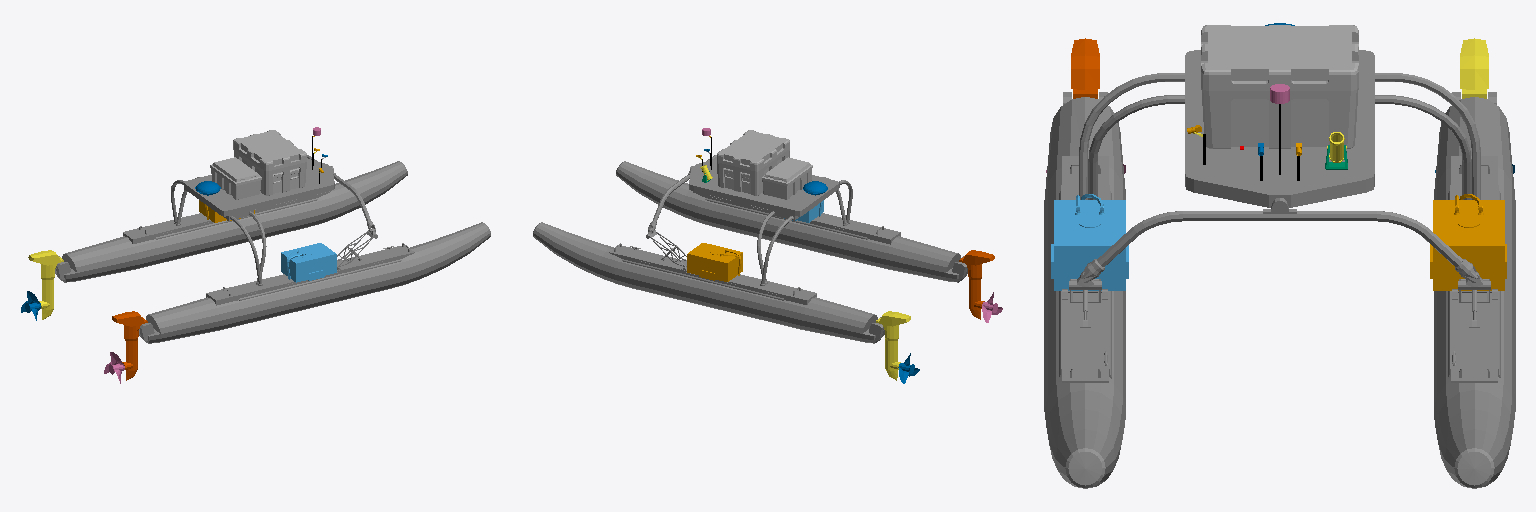
--- What the picture shows (computed from the rendered views, not written in the file) ---
The picture shows the robot from 3 angles, left to right: view 1: azimuth 30°, elevation 25°; view 2: azimuth 150°, elevation 25°; view 3: azimuth 270°, elevation 25°; orthographic projection.
Robot: WAM-V — 28 links, 27 joints (6 revolute, 2 continuous, 19 fixed); root link wamv/base_link; default pose: every joint at zero.
Visible links, largest first — view 1: wamv/base_link, wamv/cpu_cases_link, wamv/right_battery_link, wamv/right_engine_link, wamv/left_engine_link; view 2: wamv/base_link, wamv/cpu_cases_link, wamv/left_battery_link, wamv/left_engine_link, wamv/right_engine_link; view 3: wamv/base_link, wamv/cpu_cases_link, wamv/right_battery_link, wamv/left_battery_link, wamv/left_engine_link, wamv/right_engine_link.
Link boxes in pixels (left/top/right/bottom): wamv/base_link: left=55, top=155, right=490, bottom=343; wamv/cpu_cases_link: left=210, top=130, right=306, bottom=199; wamv/right_battery_link: left=281, top=243, right=336, bottom=282; wamv/right_engine_link: left=112, top=311, right=147, bottom=380; wamv/left_engine_link: left=28, top=250, right=63, bottom=319; wamv/base_link: left=533, top=155, right=967, bottom=343; wamv/cpu_cases_link: left=717, top=130, right=812, bottom=199; wamv/left_battery_link: left=687, top=243, right=742, bottom=281; wamv/left_engine_link: left=876, top=311, right=910, bottom=380; wamv/right_engine_link: left=959, top=250, right=994, bottom=319; wamv/base_link: left=1044, top=50, right=1515, bottom=488; wamv/cpu_cases_link: left=1201, top=25, right=1358, bottom=148; wamv/right_battery_link: left=1051, top=194, right=1128, bottom=290; wamv/left_battery_link: left=1430, top=194, right=1506, bottom=290; wamv/left_engine_link: left=1460, top=38, right=1488, bottom=98; wamv/right_engine_link: left=1071, top=38, right=1099, bottom=98.
Size in the robot's own frame: 5.37 by 2.49 by 2.24 metres.
19 mesh visuals loaded from 11 distinct referenced files (11 Collada DAE).

The robot description file, URDF, robot "WAM-V":
<?xml version="1.0" ?>
<!-- =================================================================================== -->
<!-- |    This document was autogenerated by xacro from [local-path]/vrx_colcon_ws/install/share/wamv_gazebo/urdf/wamv_gazebo.urdf.xacro | -->
<!-- |    EDITING THIS FILE BY HAND IS NOT RECOMMENDED                                 | -->
<!-- =================================================================================== -->
<!-- Basic WAM-V with gazebo plugins for dynamics -->
<robot name="WAM-V">
  <link name="wamv/left_battery_link">
    <visual>
      <origin rpy="0 0 0" xyz="0 -1.03 -.45"/>
      <geometry>
        <mesh filename="package://vrx_gazebo/models/battery/mesh/battery.dae"/>
      </geometry>
    </visual>
    <collision name="left_battery_collision">
      <origin rpy="0 0 0" xyz="0 0 .15"/>
      <geometry>
        <box size=".6 .4 .31"/>
      </geometry>
    </collision>
    <inertial>
      <origin rpy=" 0 0 0" xyz="0 0 .15"/>
      <mass value="23.5"/>
      <inertia ixx="0.5015291666666667" ixy="0" ixz="0" iyy="0.8931958333333333" iyz="0" izz="1.0183333333333333"/>
    </inertial>
  </link>
  <joint name="wamv/left_chasis_battery_joint" type="fixed">
    <origin rpy="0 0 0" xyz="0 1 0.45"/>
    <parent link="wamv/base_link"/>
    <child link="wamv/left_battery_link"/>
  </joint>
  <gazebo reference="wamv/left_battery_link">
    <visual>
      <material>
        <diffuse>1.0 1.0 1.0</diffuse>
        <specular>1.0 1.0 1.0</specular>
        <pbr>
          <metal>
            <albedo_map>model://vrx_gazebo/models/battery/mesh/battery_Albedo.png</albedo_map>
            <normal_map>model://vrx_gazebo/models/battery/mesh/battery_Normal.png</normal_map>
            <roughness_map>model://vrx_gazebo/models/battery/mesh/battery_Roughness.png</roughness_map>
            <metalness_map>model://vrx_gazebo/models/battery/mesh/battery_Metalness.png</metalness_map>
          </metal>
        </pbr>
      </material>
    </visual>
  </gazebo>
  <link name="wamv/right_battery_link">
    <visual>
      <origin rpy="0 0 0" xyz="0 -1.03 -.45"/>
      <geometry>
        <mesh filename="package://vrx_gazebo/models/battery/mesh/battery.dae"/>
      </geometry>
    </visual>
    <collision name="right_battery_collision">
      <origin rpy="0 0 0" xyz="0 0 .15"/>
      <geometry>
        <box size=".6 .4 .31"/>
      </geometry>
    </collision>
    <inertial>
      <origin rpy=" 0 0 0" xyz="0 0 .15"/>
      <mass value="23.5"/>
      <inertia ixx="0.5015291666666667" ixy="0" ixz="0" iyy="0.8931958333333333" iyz="0" izz="1.0183333333333333"/>
    </inertial>
  </link>
  <joint name="wamv/right_chasis_battery_joint" type="fixed">
    <origin rpy="0 0 0" xyz="0 -1 0.45"/>
    <parent link="wamv/base_link"/>
    <child link="wamv/right_battery_link"/>
  </joint>
  <gazebo reference="wamv/right_battery_link">
    <visual>
      <material>
        <diffuse>1.0 1.0 1.0</diffuse>
        <specular>1.0 1.0 1.0</specular>
        <pbr>
          <metal>
            <albedo_map>model://vrx_gazebo/models/battery/mesh/battery_Albedo.png</albedo_map>
            <normal_map>model://vrx_gazebo/models/battery/mesh/battery_Normal.png</normal_map>
            <roughness_map>model://vrx_gazebo/models/battery/mesh/battery_Roughness.png</roughness_map>
            <metalness_map>model://vrx_gazebo/models/battery/mesh/battery_Metalness.png</metalness_map>
          </metal>
        </pbr>
      </material>
    </visual>
  </gazebo>
  <!-- Basic model of the 16' WAM-V USV -->
  <link name="wamv/base_link">
    <visual>
      <geometry>
        <mesh filename="package://wamv_description/models/WAM-V-Base/mesh/WAM-V-Base.dae"/>
      </geometry>
    </visual>
    <!-- Main float -->
    <collision name="left_float">
      <origin rpy="0 1.57 0" xyz="-0.4 1.03 0.2"/>
      <geometry>
        <cylinder length="4" radius="0.2"/>
      </geometry>
    </collision>
    <collision name="left_mid_float">
      <origin rpy="0 1.38 0" xyz="1.85 1.03 0.3"/>
      <geometry>
        <cylinder length="0.5" radius="0.17"/>
      </geometry>
    </collision>
    <collision name="left_front_float">
      <origin rpy="0 1.3 0" xyz="2.3 1.03 0.4"/>
      <geometry>
        <cylinder length="0.45" radius="0.12"/>
      </geometry>
    </collision>
    <!-- Front beam -->
    <collision name="front_left_beam_lower">
      <origin rpy="0.78 0 0" xyz="0.9 0.85 1"/>
      <geometry>
        <cylinder length="0.5" radius="0.04"/>
      </geometry>
    </collision>
    <collision name="front_left_beam_upper">
      <origin rpy="1.35 0 0" xyz="0.9 0.6 1.18"/>
      <geometry>
        <cylinder length="0.2" radius="0.04"/>
      </geometry>
    </collision>
    <!-- Mid beam -->
    <collision name="mid_left_beam_lower">
      <origin rpy="0.1 0.25 0" xyz="-0.65 0.99 0.7"/>
      <geometry>
        <cylinder length="0.45" radius="0.03"/>
      </geometry>
    </collision>
    <collision name="mid_left_beam_medium">
      <origin rpy="0.75 0.25 0" xyz="-0.57 0.87 1.05"/>
      <geometry>
        <cylinder length="0.32" radius="0.03"/>
      </geometry>
    </collision>
    <collision name="mid_left_beam_upper">
      <origin rpy="1.35 0.25 0" xyz="-0.55 0.65 1.17"/>
      <geometry>
        <cylinder length="0.3" radius="0.03"/>
      </geometry>
    </collision>
    <!-- Rear beam -->
    <collision name="rear_left_beam_lower">
      <origin rpy="0 -0.15 0" xyz="-0.74 1.03 0.7"/>
      <geometry>
        <cylinder length="0.45" radius="0.03"/>
      </geometry>
    </collision>
    <collision name="rear_left_beam_medium">
      <origin rpy="0.75 -0.15 0" xyz="-0.79 0.91 1.05"/>
      <geometry>
        <cylinder length="0.32" radius="0.03"/>
      </geometry>
    </collision>
    <collision name="rear_left_beam_upper">
      <origin rpy="1.45 -0.15 0" xyz="-0.81 0.67 1.18"/>
      <geometry>
        <cylinder length="0.3" radius="0.03"/>
      </geometry>
    </collision>
    <!-- Joint -->
    <collision name="left_joint">
      <origin rpy="0 -0.6 0" xyz="0.58 1.03 0.6"/>
      <geometry>
        <box size="0.65 0.2 0.1"/>
      </geometry>
    </collision>
    <!-- Main float -->
    <collision name="right_float">
      <origin rpy="0 1.57 0" xyz="-0.4 -1.03 0.2"/>
      <geometry>
        <cylinder length="4" radius="0.2"/>
      </geometry>
    </collision>
    <collision name="right_mid_float">
      <origin rpy="0 1.38 0" xyz="1.85 -1.03 0.3"/>
      <geometry>
        <cylinder length="0.5" radius="0.17"/>
      </geometry>
    </collision>
    <collision name="right_front_float">
      <origin rpy="0 1.3 0" xyz="2.3 -1.03 0.4"/>
      <geometry>
        <cylinder length="0.45" radius="0.12"/>
      </geometry>
    </collision>
    <!-- Front beam -->
    <collision name="front_right_beam_lower">
      <origin rpy="-0.78 0 0" xyz="0.9 -0.85 1"/>
      <geometry>
        <cylinder length="0.5" radius="0.04"/>
      </geometry>
    </collision>
    <collision name="front_right_beam_upper">
      <origin rpy="-1.35 0 0" xyz="0.9 -0.6 1.18"/>
      <geometry>
        <cylinder length="0.2" radius="0.04"/>
      </geometry>
    </collision>
    <!-- Mid beam -->
    <collision name="mid_right_beam_lower">
      <origin rpy="-0.1 0.25 0" xyz="-0.65 -0.99 0.7"/>
      <geometry>
        <cylinder length="0.45" radius="0.03"/>
      </geometry>
    </collision>
    <collision name="mid_right_beam_medium">
      <origin rpy="-0.75 0.25 0" xyz="-0.57 -0.87 1.05"/>
      <geometry>
        <cylinder length="0.32" radius="0.03"/>
      </geometry>
    </collision>
    <collision name="mid_right_beam_upper">
      <origin rpy="-1.35 0.25 0" xyz="-0.55 -0.65 1.17"/>
      <geometry>
        <cylinder length="0.3" radius="0.03"/>
      </geometry>
    </collision>
    <!-- Rear beam -->
    <collision name="rear_right_beam_lower">
      <origin rpy="0 -0.15 0" xyz="-0.74 -1.03 0.7"/>
      <geometry>
        <cylinder length="0.45" radius="0.03"/>
      </geometry>
    </collision>
    <collision name="rear_right_beam_medium">
      <origin rpy="-0.75 -0.15 0" xyz="-0.79 -0.91 1.05"/>
      <geometry>
        <cylinder length="0.32" radius="0.03"/>
      </geometry>
    </collision>
    <collision name="rear_right_beam_upper">
      <origin rpy="-1.45 -0.15 0" xyz="-0.81 -0.67 1.18"/>
      <geometry>
        <cylinder length="0.3" radius="0.03"/>
      </geometry>
    </collision>
    <!-- Joint -->
    <collision name="right_joint">
      <origin rpy="0 -0.6 0" xyz="0.58 -1.03 0.6"/>
      <geometry>
        <box size="0.65 0.2 0.1"/>
      </geometry>
    </collision>
    <!-- Top base -->
    <collision name="top_base">
      <origin rpy="0 0 0" xyz="0 -0 1.25"/>
      <geometry>
        <box size="1.85 1 0.1"/>
      </geometry>
    </collision>
    <inertial>
      <!-- From WAM-V spec sheet -->
      <mass value="180.0"/>
      <inertia ixx="120.0" ixy="0.0" ixz="0.0" iyy="393" iyz="0.0" izz="446.0"/>
    </inertial>
  </link>
  <gazebo>
    <enable_wind>true</enable_wind>
  </gazebo>
  <gazebo reference="wamv/base_link">
    <visual>
      <material>
        <diffuse>1.0 1.0 1.0</diffuse>
        <specular>1.0 1.0 1.0</specular>
        <pbr>
          <metal>
            <albedo_map>model://wamv_description/models/WAM-V-Base/mesh/WAM-V_Albedo.png</albedo_map>
            <normal_map>model://wamv_description/models/WAM-V-Base/mesh/WAM-V_Normal.png</normal_map>
            <roughness_map>model://wamv_description/models/WAM-V-Base/mesh/WAM-V_Roughness.png</roughness_map>
            <metalness_map>model://wamv_description/models/WAM-V-Base/mesh/WAM-V_Metalness.png</metalness_map>
          </metal>
        </pbr>
      </material>
    </visual>
    <sensor name="contact_sensor" type="contact">
      <contact>
        <!-- collisions are renamed during urdf -> sdf fixed joint lumping -->
        <collision>wamv/base_link_fixed_joint_lump__top_base_collision_24</collision>
        <collision>wamv/base_link_fixed_joint_lump__left_float_collision</collision>
        <collision>wamv/base_link_fixed_joint_lump__left_mid_float_collision_1</collision>
        <collision>wamv/base_link_fixed_joint_lump__left_front_float_collision_2</collision>
        <collision>wamv/base_link_fixed_joint_lump__right_float_collision_12</collision>
        <collision>wamv/base_link_fixed_joint_lump__right_mid_float_collision_13</collision>
        <collision>wamv/base_link_fixed_joint_lump__right_front_float_collision_14</collision>
        <topic>/vrx/contacts</topic>
      </contact>
      <always_on>1</always_on>
      <update_rate>5</update_rate>
    </sensor>
  </gazebo>
  <link name="wamv/left_engine_link">
    <visual>
      <geometry>
        <mesh filename="package://wamv_description/models/engine/mesh/engine.dae"/>
      </geometry>
    </visual>
    <collision name="left_engine_vertical_axis_collision">
      <origin rpy="0 0 0" xyz="-0.16 0 -0.24"/>
      <geometry>
        <box size="0.2 0.15 0.83"/>
      </geometry>
    </collision>
    <collision name="left_engine_rear_end_collision">
      <origin rpy="0 0 0" xyz="-0.34 0 0.12"/>
      <geometry>
        <box size="0.12 0.15 0.12"/>
      </geometry>
    </collision>
    <inertial>
      <mass value="15"/>
      <inertia ixx="0.889245" ixy="0.0" ixz="0.0" iyy="0.911125" iyz="0.0" izz="0.078125"/>
    </inertial>
  </link>
  <link name="wamv/left_propeller_link">
    <visual>
      <geometry>
        <mesh filename="package://wamv_description/models/propeller/mesh/propeller.dae"/>
      </geometry>
    </visual>
    <collision name="left_propeller_collision">
      <origin rpy="0 1.57 0" xyz="-0.08 0 0"/>
      <geometry>
        <cylinder length="0.18" radius="0.24"/>
      </geometry>
    </collision>
    <inertial>
      <mass value="0.5"/>
      <inertia ixx="0.008545" ixy="0.0" ixz="0.0" iyy="0.008545" iyz="0.0" izz="0.0144"/>
    </inertial>
  </link>
  <joint name="wamv/left_chassis_engine_joint" type="revolute">
    <axis xyz="0 0 1"/>
    <limit effort="10" lower="-3.141592653589793" upper="3.141592653589793" velocity="10"/>
    <origin rpy="0 0 0" xyz="-2.373776 1.027135 0.318237"/>
    <parent link="wamv/base_link"/>
    <child link="wamv/left_engine_link"/>
  </joint>
  <joint name="wamv/left_engine_propeller_joint" type="continuous">
    <axis rpy="0 0 0" xyz="1 0 0"/>
    <parent link="wamv/left_engine_link"/>
    <child link="wamv/left_propeller_link"/>
    <origin rpy="0 0 0" xyz="-0.278156 0 -0.509371"/>
    <limit effort="100" velocity="100"/>
    <dynamics damping="0.05" friction="0.05"/>
  </joint>
  <link name="wamv/right_engine_link">
    <visual>
      <geometry>
        <mesh filename="package://wamv_description/models/engine/mesh/engine.dae"/>
      </geometry>
    </visual>
    <collision name="right_engine_vertical_axis_collision">
      <origin rpy="0 0 0" xyz="-0.16 0 -0.24"/>
      <geometry>
        <box size="0.2 0.15 0.83"/>
      </geometry>
    </collision>
    <collision name="right_engine_rear_end_collision">
      <origin rpy="0 0 0" xyz="-0.34 0 0.12"/>
      <geometry>
        <box size="0.12 0.15 0.12"/>
      </geometry>
    </collision>
    <inertial>
      <mass value="15"/>
      <inertia ixx="0.889245" ixy="0.0" ixz="0.0" iyy="0.911125" iyz="0.0" izz="0.078125"/>
    </inertial>
  </link>
  <link name="wamv/right_propeller_link">
    <visual>
      <geometry>
        <mesh filename="package://wamv_description/models/propeller/mesh/propeller.dae"/>
      </geometry>
    </visual>
    <collision name="right_propeller_collision">
      <origin rpy="0 1.57 0" xyz="-0.08 0 0"/>
      <geometry>
        <cylinder length="0.18" radius="0.24"/>
      </geometry>
    </collision>
    <inertial>
      <mass value="0.5"/>
      <inertia ixx="0.008545" ixy="0.0" ixz="0.0" iyy="0.008545" iyz="0.0" izz="0.0144"/>
    </inertial>
  </link>
  <joint name="wamv/right_chassis_engine_joint" type="revolute">
    <axis xyz="0 0 1"/>
    <limit effort="10" lower="-3.141592653589793" upper="3.141592653589793" velocity="10"/>
    <origin rpy="0 0 0" xyz="-2.373776 -1.027135 0.318237"/>
    <parent link="wamv/base_link"/>
    <child link="wamv/right_engine_link"/>
  </joint>
  <joint name="wamv/right_engine_propeller_joint" type="continuous">
    <axis rpy="0 0 0" xyz="1 0 0"/>
    <parent link="wamv/right_engine_link"/>
    <child link="wamv/right_propeller_link"/>
    <origin rpy="0 0 0" xyz="-0.278156 0 -0.509371"/>
    <limit effort="100" velocity="100"/>
    <dynamics damping="0.05" friction="0.05"/>
  </joint>
  <gazebo>
    <plugin filename="gz-sim-thruster-system" name="gz::sim::systems::Thruster">
      <joint_name>wamv/left_engine_propeller_joint</joint_name>
      <thrust_coefficient>0.004422</thrust_coefficient>
      <fluid_density>1000</fluid_density>
      <propeller_diameter>0.2</propeller_diameter>
      <velocity_control>true</velocity_control>
      <!-- max total thrust / 2 -->
      <max_thrust_cmd>2353.53383667818</max_thrust_cmd>
      <namespace>wamv</namespace>
      <topic>thrusters/left/thrust</topic>
      <!-- Not used by Gazebo but used to run the bridge easily -->
      <name>left</name>
    </plugin>
    <plugin filename="gz-sim-joint-position-controller-system" name="gz::sim::systems::JointPositionController">
      <joint_name>wamv/left_chassis_engine_joint</joint_name>
      <use_velocity_commands>true</use_velocity_commands>
      <topic>wamv/thrusters/left/pos</topic>
      <!-- Not used by Gazebo but used to run the bridge easily -->
      <name>left</name>
    </plugin>
  </gazebo>
  <gazebo>
    <plugin filename="gz-sim-thruster-system" name="gz::sim::systems::Thruster">
      <joint_name>wamv/right_engine_propeller_joint</joint_name>
      <thrust_coefficient>0.004422</thrust_coefficient>
      <fluid_density>1000</fluid_density>
      <propeller_diameter>0.2</propeller_diameter>
      <velocity_control>true</velocity_control>
      <!-- max total thrust / 2 -->
      <max_thrust_cmd>2353.53383667818</max_thrust_cmd>
      <namespace>wamv</namespace>
      <topic>thrusters/right/thrust</topic>
      <!-- Not used by Gazebo but used to run the bridge easily -->
      <name>right</name>
    </plugin>
    <plugin filename="gz-sim-joint-position-controller-system" name="gz::sim::systems::JointPositionController">
      <joint_name>wamv/right_chassis_engine_joint</joint_name>
      <use_velocity_commands>true</use_velocity_commands>
      <topic>wamv/thrusters/right/pos</topic>
      <!-- Not used by Gazebo but used to run the bridge easily -->
      <name>right</name>
    </plugin>
  </gazebo>
  <!--Gazebo Plugin for simulating WAM-V dynamics-->
  <gazebo>
    <!-- Left hull -->
    <plugin filename="libSurface.so" name="vrx::Surface">
      <link_name>wamv/base_link</link_name>
      <hull_length>4.9</hull_length>
      <hull_radius>0.213</hull_radius>
      <fluid_level>0</fluid_level>
      <points>
        <point>0.6 1.03 0</point>
        <point>-1.4 1.03 0</point>
      </points>
      <wavefield>
        <topic>/vrx/wavefield/parameters</topic>
      </wavefield>
    </plugin>
    <!-- Right hull -->
    <plugin filename="libSurface.so" name="vrx::Surface">
      <link_name>wamv/base_link</link_name>
      <hull_length>4.9</hull_length>
      <hull_radius>0.213</hull_radius>
      <fluid_level>0</fluid_level>
      <points>
        <point>0.6 -1.03 0</point>
        <point>-1.4 -1.03 0</point>
      </points>
      <wavefield>
        <topic>/vrx/wavefield/parameters</topic>
      </wavefield>
    </plugin>
    <plugin filename="libSimpleHydrodynamics.so" name="vrx::SimpleHydrodynamics">
      <link_name>wamv/base_link</link_name>
      <!-- Added mass -->
      <xDotU>0.0</xDotU>
      <yDotV>0.0</yDotV>
      <nDotR>0.0</nDotR>
      <!-- Linear and quadratic drag -->
      <xU>51.3</xU>
      <xUU>72.4</xUU>
      <yV>40.0</yV>
      <yVV>0.0</yVV>
      <zW>500.0</zW>
      <kP>100.0</kP>
      <mQ>100.0</mQ>
      <nR>400.0</nR>
      <nRR>0.0</nRR>
    </plugin>
  </gazebo>
  <gazebo>
    <link name="wamv_external_link">
      <inertial>
        <mass>0.001</mass>
        <inertia>
          <ixx>0.00000004</ixx>
          <ixy>0</ixy>
          <ixz>0</ixz>
          <iyy>0.00000004</iyy>
          <iyz>0</iyz>
          <izz>0.00000004</izz>
        </inertia>
      </inertial>
    </link>
    <link name="wamv_external_link_base">
      <inertial>
        <mass>0.001</mass>
        <inertia>
          <ixx>0.00000004</ixx>
          <ixy>0</ixy>
          <ixz>0</ixz>
          <iyy>0.00000004</iyy>
          <iyz>0</iyz>
          <izz>0.00000004</izz>
        </inertia>
      </inertial>
    </link>
    <joint name="wamv_external_pivot_joint" type="universal">
      <parent>wamv_external_link</parent>
      <child>wamv/base_link</child>
      <axis>
        <xyz>1 0 0</xyz>
      </axis>
      <axis2>
        <xyz>0 1 0</xyz>
      </axis2>
    </joint>
    <joint name="wamv_external_riser" type="prismatic">
      <parent>wamv_external_link_base</parent>
      <child>wamv_external_link</child>
      <axis>
        <limit>
          <lower>-3</lower>
          <upper>3</upper>
        </limit>
        <xyz>0 0 1</xyz>
      </axis>
    </joint>
    <plugin filename="gz-sim-detachable-joint-system" name="gz::sim::systems::DetachableJoint">
      <parent_link>wamv_external_link_base</parent_link>
      <child_model>platform</child_model>
      <child_link>dummy_base</child_link>
      <topic>/vrx/release</topic>
      <suppress_child_warning>true</suppress_child_warning>
    </plugin>
  </gazebo>
  <!-- === TF === -->
  <!-- Publish robot state information -->
  <gazebo>
    <plugin filename="libgz-sim-pose-publisher-system.so" name="gz::sim::systems::PosePublisher">
      <publish_link_pose>true</publish_link_pose>
      <publish_sensor_pose>true</publish_sensor_pose>
      <publish_collision_pose>false</publish_collision_pose>
      <publish_visual_pose>false</publish_visual_pose>
      <publish_nested_model_pose>true</publish_nested_model_pose>
      <publish_model_pose>false</publish_model_pose>
      <use_pose_vector_msg>true</use_pose_vector_msg>
      <static_publisher>true</static_publisher>
      <static_update_frequency>1</static_update_frequency>
    </plugin>
  </gazebo>
  <gazebo>
    <plugin filename="gz-sim-odometry-publisher-system" name="gz::sim::systems::OdometryPublisher">
      <dimensions>3</dimensions>
      <odom_publish_frequency>10.0</odom_publish_frequency>
      <odom_frame>map</odom_frame>
      <robot_base_frame>wamv/base_link</robot_base_frame>
    </plugin>
  </gazebo>
  <link name="wamv/cpu_cases_link">
    <visual>
      <origin rpy="0 0 0" xyz="0.073 0 -1.53"/>
      <geometry>
        <mesh filename="package://vrx_gazebo/models/cpu_cases/mesh/cpu_cases.dae"/>
      </geometry>
    </visual>
    <collision name="cpu_case_1_collision">
      <origin rpy="0 0 0" xyz="0.185 0 0"/>
      <geometry>
        <box size="0.595 0.83 0.47"/>
      </geometry>
    </collision>
    <collision name="cpu_case_2_collision">
      <origin rpy="0 0 0" xyz="-0.3 0 -0.092"/>
      <geometry>
        <box size="0.375 0.64 0.28"/>
      </geometry>
    </collision>
    <inertial>
      <mass value="20"/>
      <inertia ixx="1.51633333333333" ixy="0" ixz="0" iyy="1.93633333333333" iyz="0" izz="2.71633333333333"/>
    </inertial>
  </link>
  <joint name="wamv/chasis_cpu_cases_joint" type="fixed">
    <origin rpy="0 0 0" xyz="-0.15 0 1.53"/>
    <parent link="wamv/base_link"/>
    <child link="wamv/cpu_cases_link"/>
  </joint>
  <gazebo reference="wamv/cpu_cases_link">
    <visual>
      <material>
        <diffuse>1.0 1.0 1.0</diffuse>
        <specular>1.0 1.0 1.0</specular>
        <pbr>
          <metal>
            <albedo_map>model://vrx_gazebo/models/cpu_cases/mesh/cpu_cases_Albedo.png</albedo_map>
            <normal_map>model://vrx_gazebo/models/cpu_cases/mesh/cpu_cases_Normal.png</normal_map>
            <roughness_map>model://vrx_gazebo/models/cpu_cases/mesh/cpu_cases_Roughness.png</roughness_map>
            <metalness_map>model://vrx_gazebo/models/cpu_cases/mesh/cpu_cases_Metalness.png</metalness_map>
          </metal>
        </pbr>
      </material>
    </visual>
  </gazebo>
  <!-- Monocular Camera -->
  <link name="wamv/front_left_camera_link">
    <visual>
      <origin rpy="0 0 1.5707963267948966" xyz="-0.033 0 0"/>
      <geometry>
        <mesh filename="package://vrx_gazebo/models/mono_camera/mesh/mono_camera.dae"/>
      </geometry>
    </visual>
    <collision name="front_left_camera_lens_collision">
      <origin rpy="0 1.5707963267948966 0" xyz="0.018 0 0"/>
      <geometry>
        <cylinder length="0.042" radius="0.015"/>
      </geometry>
    </collision>
    <collision name="front_left_camera_box_collision">
      <origin rpy="0 0 0" xyz="-0.0205 0 0"/>
      <geometry>
        <box size="0.036 0.03 0.03"/>
      </geometry>
    </collision>
    <!-- Model inertia as box with <size>0.078 0.03 0.03</size> -->
    <inertial>
      <mass value="0.3"/>
      <inertia ixx="0.0000450" ixy="0" ixz="0" iyy="0.0001746" iyz="0" izz="0.0001746"/>
    </inertial>
  </link>
  <!-- Define a link for the optical frame.  This will match the sensor frame and
         be oriented in the camera convention. -->
  <link name="wamv/front_left_camera_link_optical">
    </link>
  <!-- Sensor post -->
  <link name="wamv/front_left_camera_post_link">
    <visual>
      <geometry>
        <cylinder length="0.17650000000000002" radius="0.0076"/>
      </geometry>
      <material name="front_left_camera_post_material">
        <color rgba="0.0 0.0 0.0 1.0"/>
      </material>
    </visual>
    <collision name="front_left_camera_post_collision">
      <geometry>
        <cylinder length="0.17650000000000002" radius="0.0076"/>
      </geometry>
    </collision>
    <inertial>
      <mass value="0.15885000000000002"/>
      <inertia ixx="0.0004146717033750001" ixy="0" ixz="0" iyy="0.0004146717033750001" iyz="0" izz="4.5875880000000004e-06"/>
    </inertial>
  </link>
  <!-- Sensor post arm -->
  <link name="wamv/front_left_camera_post_arm_link">
    <visual name="front_left_camera_post_arm_visual">
      <origin rpy="-1.0471975511965976 0 -1.5707963267948966" xyz="-0.038 0 -0.003"/>
      <geometry>
        <mesh filename="package://vrx_gazebo/models/sensor_post/mesh/sensor_post_arm.dae"/>
      </geometry>
    </visual>
    <collision name="front_left_camera_post_arm_collision">
      <origin rpy="-1.2042771838760873 0 -1.5707963267948966" xyz="0 0 0"/>
      <geometry>
        <cylinder length="0.065" radius="0.008"/>
      </geometry>
    </collision>
    <inertial>
      <origin rpy="-1.2042771838760873 0 -1.5707963267948966" xyz="0 0 0"/>
      <mass value="0.1"/>
      <inertia ixx="0.00003680833" ixy="0" ixz="0" iyy="0.00003680833" iyz="0" izz="0.00000320000"/>
    </inertial>
  </link>
  <joint name="wamv/base_to_front_left_camera_post_joint" type="fixed">
    <origin rpy="0 0 0" xyz="0.7 0.1 1.38475"/>
    <parent link="wamv/base_link"/>
    <child link="wamv/front_left_camera_post_link"/>
  </joint>
  <!-- Sensor post to sensor post arm joint -->
  <joint name="wamv/front_left_camera_post_to_front_left_camera_post_arm_joint" type="fixed">
    <origin rpy="0 0 0" xyz="0.03 0 0.08825000000000008"/>
    <parent link="wamv/front_left_camera_post_link"/>
    <child link="wamv/front_left_camera_post_arm_link"/>
  </joint>
  <!-- Sensor post arm to camera joint -->
  <joint name="wamv/front_left_camera_post_arm_to_front_left_camera_joint" type="fixed">
    <origin rpy="0 0.2617993877991494 0" xyz="0.02 0 0.027"/>
    <parent link="wamv/front_left_camera_post_arm_link"/>
    <child link="wamv/front_left_camera_link"/>
  </joint>
  <!-- Camera to optical frame joint.  This is oriented to convert between ENU
         and camera conventions -->
  <joint name="wamv/front_left_camera_to_front_left_camera_link_optical_joint" type="fixed">
    <origin rpy="-1.5707963267948966 0 -1.5707963267948966" xyz="0 0 0"/>
    <parent link="wamv/front_left_camera_link"/>
    <child link="wamv/front_left_camera_link_optical"/>
  </joint>
  <!-- Gazebo camera setup -->
  <gazebo reference="wamv/front_left_camera_link">
    <visual>
      <material>
        <diffuse>1.0 1.0 1.0</diffuse>
        <specular>1.0 1.0 1.0</specular>
        <pbr>
          <metal>
            <albedo_map>model://vrx_gazebo/models/mono_camera/mesh/mono_camera_Albedo.png</albedo_map>
            <normal_map>model://vrx_gazebo/models/mono_camera/mesh/mono_camera_Normal.png</normal_map>
            <roughness_map>model://vrx_gazebo/models/mono_camera/mesh/mono_camera_Roughness.png</roughness_map>
            <metalness_map>model://vrx_gazebo/models/mono_camera/mesh/mono_camera_Metalness.png</metalness_map>
          </metal>
        </pbr>
      </material>
    </visual>
    <sensor name="front_left_camera_sensor" type="camera">
      <update_rate>30.0</update_rate>
      <camera name="front_left_camera_camera">
        <horizontal_fov>1.3962634</horizontal_fov>
        <image>
          <width>1280</width>
          <height>720</height>
          <format>R8G8B8</format>
        </image>
        <clip>
          <near>0.05</near>
          <far>300</far>
        </clip>
        <noise>
          <type>gaussian</type>
          <!-- Noise is sampled independently per pixel on each frame.
                 That pixel's noise value is added to each of its color
                 channels, which at that point lie in the range [0,1]. -->
          <mean>0.0</mean>
          <stddev>0.007</stddev>
        </noise>
      </camera>
    </sensor>
  </gazebo>
  <!-- Monocular Camera -->
  <link name="wamv/front_right_camera_link">
    <visual>
      <origin rpy="0 0 1.5707963267948966" xyz="-0.033 0 0"/>
      <geometry>
        <mesh filename="package://vrx_gazebo/models/mono_camera/mesh/mono_camera.dae"/>
      </geometry>
    </visual>
    <collision name="front_right_camera_lens_collision">
      <origin rpy="0 1.5707963267948966 0" xyz="0.018 0 0"/>
      <geometry>
        <cylinder length="0.042" radius="0.015"/>
      </geometry>
    </collision>
    <collision name="front_right_camera_box_collision">
      <origin rpy="0 0 0" xyz="-0.0205 0 0"/>
      <geometry>
        <box size="0.036 0.03 0.03"/>
      </geometry>
    </collision>
    <!-- Model inertia as box with <size>0.078 0.03 0.03</size> -->
    <inertial>
      <mass value="0.3"/>
      <inertia ixx="0.0000450" ixy="0" ixz="0" iyy="0.0001746" iyz="0" izz="0.0001746"/>
    </inertial>
  </link>
  <!-- Define a link for the optical frame.  This will match the sensor frame and
         be oriented in the camera convention. -->
  <link name="wamv/front_right_camera_link_optical">
    </link>
  <!-- Sensor post -->
  <link name="wamv/front_right_camera_post_link">
    <visual>
      <geometry>
        <cylinder length="0.17650000000000002" radius="0.0076"/>
      </geometry>
      <material name="front_right_camera_post_material">
        <color rgba="0.0 0.0 0.0 1.0"/>
      </material>
    </visual>
    <collision name="front_right_camera_post_collision">
      <geometry>
        <cylinder length="0.17650000000000002" radius="0.0076"/>
      </geometry>
    </collision>
    <inertial>
      <mass value="0.15885000000000002"/>
      <inertia ixx="0.0004146717033750001" ixy="0" ixz="0" iyy="0.0004146717033750001" iyz="0" izz="4.5875880000000004e-06"/>
    </inertial>
  </link>
  <!-- Sensor post arm -->
  <link name="wamv/front_right_camera_post_arm_link">
    <visual name="front_right_camera_post_arm_visual">
      <origin rpy="-1.0471975511965976 0 -1.5707963267948966" xyz="-0.038 0 -0.003"/>
      <geometry>
        <mesh filename="package://vrx_gazebo/models/sensor_post/mesh/sensor_post_arm.dae"/>
      </geometry>
    </visual>
    <collision name="front_right_camera_post_arm_collision">
      <origin rpy="-1.2042771838760873 0 -1.5707963267948966" xyz="0 0 0"/>
      <geometry>
        <cylinder length="0.065" radius="0.008"/>
      </geometry>
    </collision>
    <inertial>
      <origin rpy="-1.2042771838760873 0 -1.5707963267948966" xyz="0 0 0"/>
      <mass value="0.1"/>
      <inertia ixx="0.00003680833" ixy="0" ixz="0" iyy="0.00003680833" iyz="0" izz="0.00000320000"/>
    </inertial>
  </link>
  <joint name="wamv/base_to_front_right_camera_post_joint" type="fixed">
    <origin rpy="0 0 0" xyz="0.7 -0.1 1.38475"/>
    <parent link="wamv/base_link"/>
    <child link="wamv/front_right_camera_post_link"/>
  </joint>
  <!-- Sensor post to sensor post arm joint -->
  <joint name="wamv/front_right_camera_post_to_front_right_camera_post_arm_joint" type="fixed">
    <origin rpy="0 0 0" xyz="0.03 0 0.08825000000000008"/>
    <parent link="wamv/front_right_camera_post_link"/>
    <child link="wamv/front_right_camera_post_arm_link"/>
  </joint>
  <!-- Sensor post arm to camera joint -->
  <joint name="wamv/front_right_camera_post_arm_to_front_right_camera_joint" type="fixed">
    <origin rpy="0 0.2617993877991494 0" xyz="0.02 0 0.027"/>
    <parent link="wamv/front_right_camera_post_arm_link"/>
    <child link="wamv/front_right_camera_link"/>
  </joint>
  <!-- Camera to optical frame joint.  This is oriented to convert between ENU
         and camera conventions -->
  <joint name="wamv/front_right_camera_to_front_right_camera_link_optical_joint" type="fixed">
    <origin rpy="-1.5707963267948966 0 -1.5707963267948966" xyz="0 0 0"/>
    <parent link="wamv/front_right_camera_link"/>
    <child link="wamv/front_right_camera_link_optical"/>
  </joint>
  <!-- Gazebo camera setup -->
  <gazebo reference="wamv/front_right_camera_link">
    <visual>
      <material>
        <diffuse>1.0 1.0 1.0</diffuse>
        <specular>1.0 1.0 1.0</specular>
        <pbr>
          <metal>
            <albedo_map>model://vrx_gazebo/models/mono_camera/mesh/mono_camera_Albedo.png</albedo_map>
            <normal_map>model://vrx_gazebo/models/mono_camera/mesh/mono_camera_Normal.png</normal_map>
            <roughness_map>model://vrx_gazebo/models/mono_camera/mesh/mono_camera_Roughness.png</roughness_map>
            <metalness_map>model://vrx_gazebo/models/mono_camera/mesh/mono_camera_Metalness.png</metalness_map>
          </metal>
        </pbr>
      </material>
    </visual>
    <sensor name="front_right_camera_sensor" type="camera">
      <update_rate>30.0</update_rate>
      <camera name="front_right_camera_camera">
        <horizontal_fov>1.3962634</horizontal_fov>
        <image>
          <width>1280</width>
          <height>720</height>
          <format>R8G8B8</format>
        </image>
        <clip>
          <near>0.05</near>
          <far>300</far>
        </clip>
        <noise>
          <type>gaussian</type>
          <!-- Noise is sampled independently per pixel on each frame.
                 That pixel's noise value is added to each of its color
                 channels, which at that point lie in the range [0,1]. -->
          <mean>0.0</mean>
          <stddev>0.007</stddev>
        </noise>
      </camera>
    </sensor>
  </gazebo>
  <!-- Monocular Camera -->
  <link name="wamv/middle_right_camera_link">
    <visual>
      <origin rpy="0 0 1.5707963267948966" xyz="-0.033 0 0"/>
      <geometry>
        <mesh filename="package://vrx_gazebo/models/mono_camera/mesh/mono_camera.dae"/>
      </geometry>
    </visual>
    <collision name="middle_right_camera_lens_collision">
      <origin rpy="0 1.5707963267948966 0" xyz="0.018 0 0"/>
      <geometry>
        <cylinder length="0.042" radius="0.015"/>
      </geometry>
    </collision>
    <collision name="middle_right_camera_box_collision">
      <origin rpy="0 0 0" xyz="-0.0205 0 0"/>
      <geometry>
        <box size="0.036 0.03 0.03"/>
      </geometry>
    </collision>
    <!-- Model inertia as box with <size>0.078 0.03 0.03</size> -->
    <inertial>
      <mass value="0.3"/>
      <inertia ixx="0.0000450" ixy="0" ixz="0" iyy="0.0001746" iyz="0" izz="0.0001746"/>
    </inertial>
  </link>
  <!-- Define a link for the optical frame.  This will match the sensor frame and
         be oriented in the camera convention. -->
  <link name="wamv/middle_right_camera_link_optical">
    </link>
  <!-- Sensor post -->
  <link name="wamv/middle_right_camera_post_link">
    <visual>
      <geometry>
        <cylinder length="0.17650000000000002" radius="0.0076"/>
      </geometry>
      <material name="middle_right_camera_post_material">
        <color rgba="0.0 0.0 0.0 1.0"/>
      </material>
    </visual>
    <collision name="middle_right_camera_post_collision">
      <geometry>
        <cylinder length="0.17650000000000002" radius="0.0076"/>
      </geometry>
    </collision>
    <inertial>
      <mass value="0.15885000000000002"/>
      <inertia ixx="0.0004146717033750001" ixy="0" ixz="0" iyy="0.0004146717033750001" iyz="0" izz="4.5875880000000004e-06"/>
    </inertial>
  </link>
  <!-- Sensor post arm -->
  <link name="wamv/middle_right_camera_post_arm_link">
    <visual name="middle_right_camera_post_arm_visual">
      <origin rpy="-1.0471975511965976 0 -1.5707963267948966" xyz="-0.038 0 -0.003"/>
      <geometry>
        <mesh filename="package://vrx_gazebo/models/sensor_post/mesh/sensor_post_arm.dae"/>
      </geometry>
    </visual>
    <collision name="middle_right_camera_post_arm_collision">
      <origin rpy="-1.2042771838760873 0 -1.5707963267948966" xyz="0 0 0"/>
      <geometry>
        <cylinder length="0.065" radius="0.008"/>
      </geometry>
    </collision>
    <inertial>
      <origin rpy="-1.2042771838760873 0 -1.5707963267948966" xyz="0 0 0"/>
      <mass value="0.1"/>
      <inertia ixx="0.00003680833" ixy="0" ixz="0" iyy="0.00003680833" iyz="0" izz="0.00000320000"/>
    </inertial>
  </link>
  <joint name="wamv/base_to_middle_right_camera_post_joint" type="fixed">
    <origin rpy="0 0 -1.5707963267948966" xyz="0.5 -0.4 1.38475"/>
    <parent link="wamv/base_link"/>
    <child link="wamv/middle_right_camera_post_link"/>
  </joint>
  <!-- Sensor post to sensor post arm joint -->
  <joint name="wamv/middle_right_camera_post_to_middle_right_camera_post_arm_joint" type="fixed">
    <origin rpy="0 0 0" xyz="0.03 0 0.08825000000000008"/>
    <parent link="wamv/middle_right_camera_post_link"/>
    <child link="wamv/middle_right_camera_post_arm_link"/>
  </joint>
  <!-- Sensor post arm to camera joint -->
  <joint name="wamv/middle_right_camera_post_arm_to_middle_right_camera_joint" type="fixed">
    <origin rpy="0 0.2617993877991494 0.0" xyz="0.02 0 0.027"/>
    <parent link="wamv/middle_right_camera_post_arm_link"/>
    <child link="wamv/middle_right_camera_link"/>
  </joint>
  <!-- Camera to optical frame joint.  This is oriented to convert between ENU
         and camera conventions -->
  <joint name="wamv/middle_right_camera_to_middle_right_camera_link_optical_joint" type="fixed">
    <origin rpy="-1.5707963267948966 0 -1.5707963267948966" xyz="0 0 0"/>
    <parent link="wamv/middle_right_camera_link"/>
    <child link="wamv/middle_right_camera_link_optical"/>
  </joint>
  <!-- Gazebo camera setup -->
  <gazebo reference="wamv/middle_right_camera_link">
    <visual>
      <material>
        <diffuse>1.0 1.0 1.0</diffuse>
        <specular>1.0 1.0 1.0</specular>
        <pbr>
          <metal>
            <albedo_map>model://vrx_gazebo/models/mono_camera/mesh/mono_camera_Albedo.png</albedo_map>
            <normal_map>model://vrx_gazebo/models/mono_camera/mesh/mono_camera_Normal.png</normal_map>
            <roughness_map>model://vrx_gazebo/models/mono_camera/mesh/mono_camera_Roughness.png</roughness_map>
            <metalness_map>model://vrx_gazebo/models/mono_camera/mesh/mono_camera_Metalness.png</metalness_map>
          </metal>
        </pbr>
      </material>
    </visual>
    <sensor name="middle_right_camera_sensor" type="camera">
      <update_rate>30.0</update_rate>
      <camera name="middle_right_camera_camera">
        <horizontal_fov>1.3962634</horizontal_fov>
        <image>
          <width>1280</width>
          <height>720</height>
          <format>R8G8B8</format>
        </image>
        <clip>
          <near>0.05</near>
          <far>300</far>
        </clip>
        <noise>
          <type>gaussian</type>
          <!-- Noise is sampled independently per pixel on each frame.
                 That pixel's noise value is added to each of its color
                 channels, which at that point lie in the range [0,1]. -->
          <mean>0.0</mean>
          <stddev>0.007</stddev>
        </noise>
      </camera>
    </sensor>
  </gazebo>
  <link name="wamv/gps_wamv_link">
    <visual name="gps_wamv_visual">
      <geometry>
        <mesh filename="package://wamv_gazebo/models/gps/mesh/gps.dae"/>
      </geometry>
    </visual>
    <collision name="gps_wamv_collision_base">
      <origin rpy="0 0 0" xyz="0 0 0.025"/>
      <geometry>
        <cylinder length="0.05" radius="0.015"/>
      </geometry>
    </collision>
    <collision name="gps_wamv_collision_antenna">
      <origin rpy="0 0 0" xyz="0 0 0.11"/>
      <geometry>
        <cylinder length="0.1" radius="0.15"/>
      </geometry>
    </collision>
    <inertial>
      <mass value="1"/>
      <inertia ixx="0.006458" ixy="0.0" ixz="0.0" iyy="0.006458" iyz="0.0" izz="0.01125"/>
    </inertial>
  </link>
  <joint name="wamv/gps_wamv_joint" type="revolute">
    <axis xyz="0 0 1"/>
    <limit effort="1000.0" lower="0.0" upper="0" velocity="0"/>
    <origin rpy="0 0 0" xyz="-0.85 0 1.3"/>
    <parent link="wamv/base_link"/>
    <child link="wamv/gps_wamv_link"/>
  </joint>
  <gazebo reference="wamv/gps_wamv_link">
    <sensor name="navsat" type="navsat">
      <always_on>1</always_on>
      <update_rate>15</update_rate>
      <!--<topic>${namespace}/${sensor_namespace}gps/gps/fix</topic>-->
    </sensor>
  </gazebo>
  <link name="wamv/imu_wamv_link">
    <visual name="imu_wamv_visual">
      &gt;
        
      <geometry>
        <box size="0.05 0.025 0.005"/>
      </geometry>
      <material name="imu_wamv_visual_material">
        <color rgba="1.0 0.0 00 1.0"/>
      </material>
    </visual>
    <collision name="imu_wamv_collision">
      &gt;
        
      <geometry>
        <box size="0.05 0.025 0.005"/>
      </geometry>
    </collision>
    <inertial>
      <mass value="0.1"/>
      <inertia ixx="0.00000542" ixy="0.0" ixz="0.0" iyy="0.00002104" iyz="0.0" izz="0.00002604"/>
    </inertial>
  </link>
  <joint name="wamv/imu_wamv_joint" type="revolute">
    <axis xyz="0 0 1"/>
    <limit effort="1000.0" lower="0.0" upper="0" velocity="0"/>
    <origin rpy="0 0 0" xyz="0.3 -0.2 1.3"/>
    <parent link="wamv/base_link"/>
    <child link="wamv/imu_wamv_link"/>
  </joint>
  <gazebo reference="wamv/imu_wamv_link">
    <sensor name="imu_wamv_sensor" type="imu">
      <update_rate>15</update_rate>
      <imu>
        <angular_velocity>
          <x>
            <noise type="gaussian">
              <mean>0</mean>
              <stddev>0.009</stddev>
              <bias_mean>0.00075</bias_mean>
              <bias_stddev>0.005</bias_stddev>
              <dynamic_bias_stddev>0.00002</dynamic_bias_stddev>
              <dynamic_bias_correlation_time>400.0</dynamic_bias_correlation_time>
              <precision>0.00025</precision>
            </noise>
          </x>
          <y>
            <noise type="gaussian">
              <mean>0</mean>
              <stddev>0.009</stddev>
              <bias_mean>0.00075</bias_mean>
              <bias_stddev>0.005</bias_stddev>
              <dynamic_bias_stddev>0.00002</dynamic_bias_stddev>
              <dynamic_bias_correlation_time>400.0</dynamic_bias_correlation_time>
              <precision>0.00025</precision>
            </noise>
          </y>
          <z>
            <noise type="gaussian">
              <mean>0</mean>
              <stddev>0.009</stddev>
              <bias_mean>0.00075</bias_mean>
              <bias_stddev>0.005</bias_stddev>
              <dynamic_bias_stddev>0.00002</dynamic_bias_stddev>
              <dynamic_bias_correlation_time>400.0</dynamic_bias_correlation_time>
              <precision>0.00025</precision>
            </noise>
          </z>
        </angular_velocity>
        <linear_acceleration>
          <x>
            <noise type="gaussian">
              <mean>0</mean>
              <stddev>0.021</stddev>
              <bias_mean>0.05</bias_mean>
              <bias_stddev>0.0075</bias_stddev>
              <dynamic_bias_stddev>0.000375</dynamic_bias_stddev>
              <dynamic_bias_correlation_time>175.0</dynamic_bias_correlation_time>
              <precision>0.005</precision>
            </noise>
          </x>
          <y>
            <noise type="gaussian">
              <mean>0</mean>
              <stddev>0.021</stddev>
              <bias_mean>0.05</bias_mean>
              <bias_stddev>0.0075</bias_stddev>
              <dynamic_bias_stddev>0.000375</dynamic_bias_stddev>
              <dynamic_bias_correlation_time>175.0</dynamic_bias_correlation_time>
              <precision>0.005</precision>
            </noise>
          </y>
          <z>
            <noise type="gaussian">
              <mean>0</mean>
              <stddev>0.021</stddev>
              <bias_mean>0.05</bias_mean>
              <bias_stddev>0.0075</bias_stddev>
              <dynamic_bias_stddev>0.000375</dynamic_bias_stddev>
              <dynamic_bias_correlation_time>175.0</dynamic_bias_correlation_time>
              <precision>0.005</precision>
            </noise>
          </z>
        </linear_acceleration>
      </imu>
    </sensor>
  </gazebo>
  <!-- 3d lidar sensor -->
  <link name="wamv/lidar_wamv_link">
    <visual>
      <origin rpy="0 0 0" xyz="0 0 -0.035"/>
      <geometry>
        <mesh filename="package://vrx_gazebo/models/3d_lidar/mesh/3d_lidar.dae"/>
      </geometry>
    </visual>
    <collision name="lidar_wamv_collision">
      <geometry>
        <cylinder length="0.075" radius="0.055"/>
      </geometry>
    </collision>
    <inertial>
      <mass value="1"/>
      <inertia ixx="0.00109375" ixy="0" ixz="0" iyy="0.00109375" iyz="0" izz="0.00125"/>
    </inertial>
  </link>
  <!-- Sensor post -->
  <link name="wamv/lidar_wamv_post_link">
    <visual>
      <geometry>
        <cylinder length="0.45350000000000007" radius="0.0076"/>
      </geometry>
      <material name="lidar_wamv_post_material">
        <color rgba="0.0 0.0 0.0 1.0"/>
      </material>
    </visual>
    <collision name="lidar_wamv_post_collision">
      <geometry>
        <cylinder length="0.45350000000000007" radius="0.0076"/>
      </geometry>
    </collision>
    <inertial>
      <mass value="0.40815000000000007"/>
      <inertia ixx="0.007000980964125004" ixy="0" ixz="0" iyy="0.007000980964125004" iyz="0" izz="1.1787372000000002e-05"/>
    </inertial>
  </link>
  <!-- Sensor post arm -->
  <link name="wamv/lidar_wamv_post_arm_link">
    <visual name="lidar_wamv_post_arm_visual">
      <origin rpy="-1.0471975511965976 0 -1.5707963267948966" xyz="-0.038 0 -0.003"/>
      <geometry>
        <mesh filename="package://vrx_gazebo/models/sensor_post/mesh/sensor_post_arm.dae"/>
      </geometry>
    </visual>
    <collision name="lidar_wamv_post_arm_collision">
      <origin rpy="-1.2042771838760873 0 -1.5707963267948966" xyz="0 0 0"/>
      <geometry>
        <cylinder length="0.065" radius="0.008"/>
      </geometry>
    </collision>
    <inertial>
      <origin rpy="-1.2042771838760873 0 -1.5707963267948966" xyz="0 0 0"/>
      <mass value="0.1"/>
      <inertia ixx="0.00003680833" ixy="0" ixz="0" iyy="0.00003680833" iyz="0" izz="0.00000320000"/>
    </inertial>
  </link>
  <joint name="wamv/base_to_lidar_wamv_post_joint" type="fixed">
    <origin rpy="0 0 0" xyz="0.6299999999999999 0.0 1.52325"/>
    <parent link="wamv/base_link"/>
    <child link="wamv/lidar_wamv_post_link"/>
  </joint>
  <!-- Sensor post to sensor post arm joint -->
  <joint name="wamv/lidar_wamv_post_to_lidar_wamv_post_arm_joint" type="fixed">
    <origin rpy="0 0 0" xyz="0.03 0 0.22675000000000006"/>
    <parent link="wamv/lidar_wamv_post_link"/>
    <child link="wamv/lidar_wamv_post_arm_link"/>
  </joint>
  <!-- Sensor post arm to lidar joint -->
  <joint name="wamv/lidar_wamv_post_arm_to_lidar_wamv_joint" type="fixed">
    <origin rpy="0 0 0" xyz="0.04 0 0.05"/>
    <parent link="wamv/lidar_wamv_post_arm_link"/>
    <child link="wamv/lidar_wamv_link"/>
  </joint>
  <gazebo reference="wamv/lidar_wamv_link">
    <visual>
      <material>
        <diffuse>1.0 1.0 1.0</diffuse>
        <specular>1.0 1.0 1.0</specular>
        <pbr>
          <metal>
            <albedo_map>model://vrx_gazebo/models/3d_lidar/mesh/3d_Lidar_Albedo.png</albedo_map>
            <normal_map>model://vrx_gazebo/models/3d_lidar/mesh/3d_Lidar_Normal.png</normal_map>
            <roughness_map>model://vrx_gazebo/models/3d_lidar/mesh/3d_Lidar_Roughness.png</roughness_map>
            <metalness_map>model://vrx_gazebo/models/3d_lidar/mesh/3d_Lidar_Metalness.png</metalness_map>
          </metal>
        </pbr>
      </material>
    </visual>
    <sensor name="lidar_wamv_sensor" type="gpu_ray">
      <update_rate>10</update_rate>
      <ray>
        <scan>
          <horizontal>
            <samples>1875.0</samples>
            <resolution>1</resolution>
            <min_angle>-3.141592653589793</min_angle>
            <max_angle>3.141592653589793</max_angle>
          </horizontal>
          <vertical>
            <samples>16</samples>
            <resolution>1</resolution>
            <min_angle>-0.2617993877991494</min_angle>
            <max_angle>0.2617993877991494</max_angle>
          </vertical>
        </scan>
        <range>
          <min>0.1</min>
          <max>130</max>
        </range>
        <noise>
          <type>gaussian</type>
          <mean>0.0</mean>
          <stddev>0.01</stddev>
        </noise>
      </ray>
    </sensor>
  </gazebo>
  <!--specs for 16 beam lidar are implemented by default.
          See wamv_3d_lidar for those-->
  <link name="wamv/pinger">
    <visual>
      <origin rpy="0 0 0" xyz="0 0 0"/>
    </visual>
    <inertial>
      <mass value="0.1"/>
      <inertia ixx="0.00000542" ixy="0.0" ixz="0.0" iyy="0.00002104" iyz="0.0" izz="0.00002604"/>
    </inertial>
  </link>
  <joint name="wamv/pinger_pinger_joint" type="fixed">
    <parent link="wamv/base_link"/>
    <child link="wamv/pinger"/>
  </joint>
  <gazebo>
    <plugin filename="libAcousticPingerPlugin.so" name="vrx::AcousticPingerPlugin">
      <position>-528 191 -2.0</position>
      <topic>wamv/pingers/pinger/range_bearing</topic>
      <set_position_topic>wamv/pingers/pinger/set_pinger_position
        </set_position_topic>
      <frame_id>wamv/pinger</frame_id>
      <range_noise>
        <noise>
          <type>gaussian</type>
          <mean>0.0</mean>
          <stddev>3.0</stddev>
        </noise>
      </range_noise>
      <bearing_noise>
        <noise>
          <type>gaussian</type>
          <mean>0.0</mean>
          <stddev>0.01</stddev>
        </noise>
      </bearing_noise>
      <elevation_noise>
        <noise>
          <type>gaussian</type>
          <mean>0.0</mean>
          <stddev>0.01</stddev>
        </noise>
      </elevation_noise>
    </plugin>
  </gazebo>
  <link name="wamv/ball_shooter_base_link">
    <visual>
      <origin rpy="0 0 0" xyz="0 0 0"/>
      <geometry>
        <mesh filename="package://vrx_gazebo/models/ball_shooter/meshes/ball_shooter_base.dae"/>
      </geometry>
    </visual>
    <inertial>
      <origin rpy="0 0 0" xyz="-0.02 0 0.05"/>
      <mass value="0.5"/>
      <inertia ixx="0.00083" ixy="0.0" ixz="0.0" iyy="0.00052083" iyz="0.0" izz="0.00052083"/>
    </inertial>
  </link>
  <link name="wamv/ball_shooter_launcher_link">
    <visual>
      <!-- The cylinder has a -15deg pitch. We compensate for that here.
             That way, if the user passes a 0 deg rotation the cylinder will
             be parallel to the ground -->
      <!-- <origin xyz="-0.0204 0 0.107877" rpy="0 0.261799 0" /> -->
      <origin rpy="0 0.261799 0" xyz="0 0 0"/>
      <geometry>
        <mesh filename="package://vrx_gazebo/models/ball_shooter/meshes/ball_shooter_launcher.dae"/>
      </geometry>
    </visual>
    <!-- Uncomment to see the pose where the ball is teleported -->
    <!-- <visual name="${name}_visual_ball">
        <origin xyz="0.14 0 0" rpy="0 0 0" />
        <geometry>
          <sphere radius="0.0285"/>
        </geometry>
      </visual> -->
    <collision name="ball_shooter_collision">
      <origin rpy="0 0.261799 0" xyz="0 0 0"/>
      <geometry>
        <box size="0.3 0.3 0.2"/>
      </geometry>
    </collision>
    <inertial>
      <origin rpy="0 -1.5708 0" xyz="0 0 0"/>
      <mass value="0.5"/>
      <inertia ixx="0.001779167" ixy="0.0" ixz="0.0" iyy="0.001779167" iyz="0.0" izz="0.000225"/>
    </inertial>
  </link>
  <joint name="wamv/ball_shooter_base_joint" type="revolute">
    <axis xyz="0 0 1"/>
    <limit effort="1000.0" lower="0.0" upper="0" velocity="0"/>
    <origin rpy="0 0 0" xyz="0.54 0.3 1.296"/>
    <parent link="wamv/base_link"/>
    <child link="wamv/ball_shooter_base_link"/>
  </joint>
  <joint name="wamv/ball_shooter_launcher_joint" type="revolute">
    <axis xyz="0 0 1"/>
    <limit effort="1000.0" lower="0.0" upper="0" velocity="0"/>
    <origin rpy="0 -1.04 0" xyz="-0.0204 0 0.107877"/>
    <parent link="wamv/ball_shooter_base_link"/>
    <child link="wamv/ball_shooter_launcher_link"/>
  </joint>
  <gazebo reference="wamv/ball_shooter_base_link">
    <visual>
      <material>
        <diffuse>1.0 1.0 1.0</diffuse>
        <specular>1.0 1.0 1.0</specular>
        <pbr>
          <metal>
            <albedo_map>model://vrx_gazebo/models/ball_shooter/materials/Textures/Launcher_Albedo.png</albedo_map>
            <normal_map>model://vrx_gazebo/models/ball_shooter/materials/Textures/Launcher_Normal.png</normal_map>
            <roughness_map>model://vrx_gazebo/models/ball_shooter/materials/Textures/Launcher_Roughness.png</roughness_map>
            <metalness_map>model://vrx_gazebo/models/ball_shooter/materials/Textures/Launcher_Metalness.png</metalness_map>
          </metal>
        </pbr>
      </material>
    </visual>
  </gazebo>
  <gazebo reference="wamv/ball_shooter_launcher_link">
    <visual>
      <material>
        <diffuse>1.0 1.0 1.0</diffuse>
        <specular>1.0 1.0 1.0</specular>
        <pbr>
          <metal>
            <albedo_map>model://vrx_gazebo/models/ball_shooter/materials/Textures/Launcher_Albedo.png</albedo_map>
            <normal_map>model://vrx_gazebo/models/ball_shooter/materials/Textures/Launcher_Normal.png</normal_map>
            <roughness_map>model://vrx_gazebo/models/ball_shooter/materials/Textures/Launcher_Roughness.png</roughness_map>
            <metalness_map>model://vrx_gazebo/models/ball_shooter/materials/Textures/Launcher_Metalness.png</metalness_map>
          </metal>
        </pbr>
      </material>
    </visual>
  </gazebo>
  <gazebo>
    <plugin filename="libBallShooterPlugin.so" name="vrx::BallShooterPlugin">
      <projectile>
        <model_name>blue_projectile</model_name>
        <link_name>link</link_name>
        <frame>wamv/ball_shooter_launcher_link</frame>
        <pose>0.14 0 0 0 0 0</pose>
      </projectile>
      <num_shots>4</num_shots>
      <shot_force>65</shot_force>
      <topic>wamv/shooters/ball_shooter/fire</topic>
    </plugin>
  </gazebo>
</robot>
